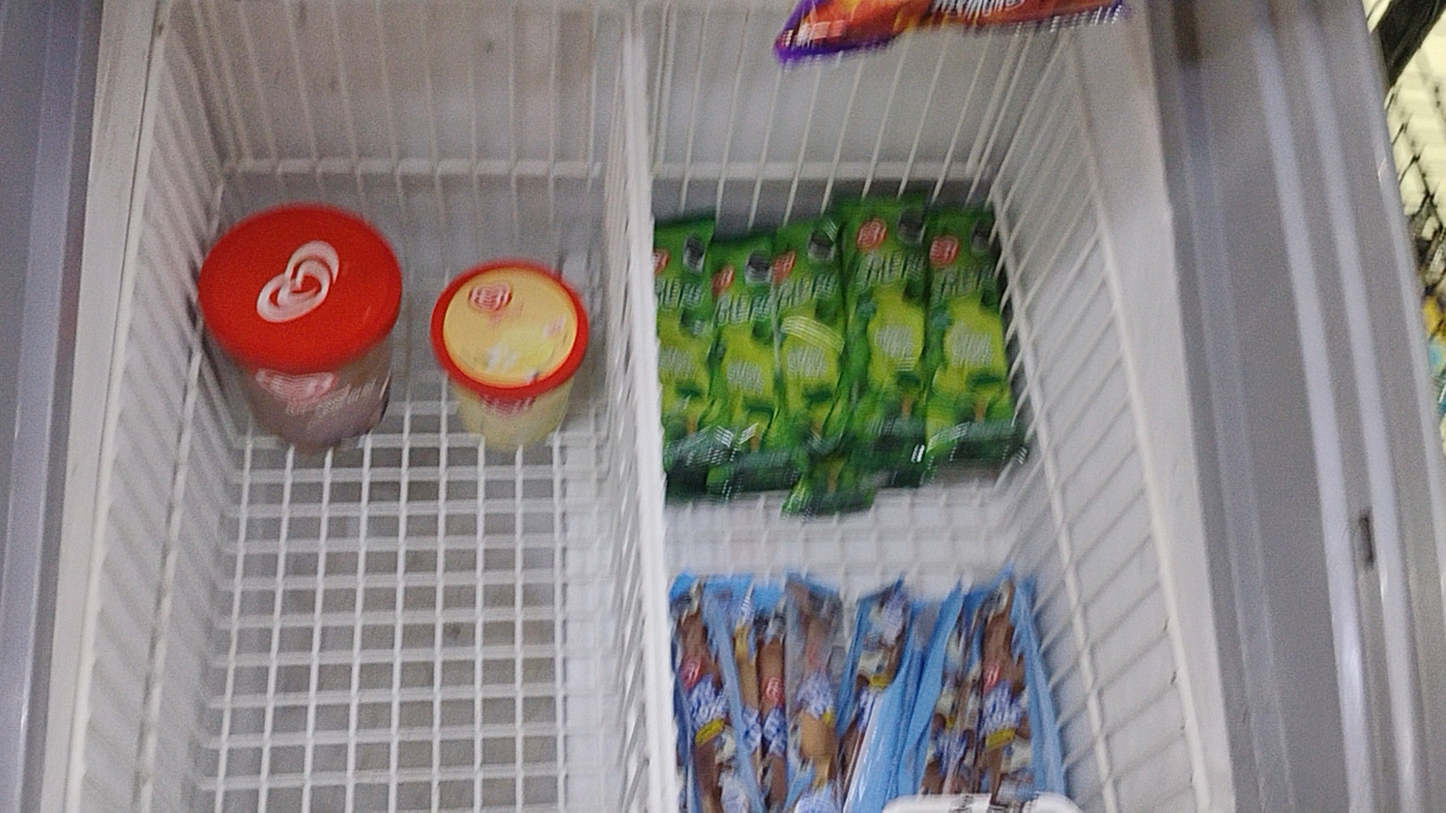rejilla: (1070, 42, 1208, 810), (73, 9, 168, 810), (627, 47, 661, 812), (640, 43, 672, 810)
